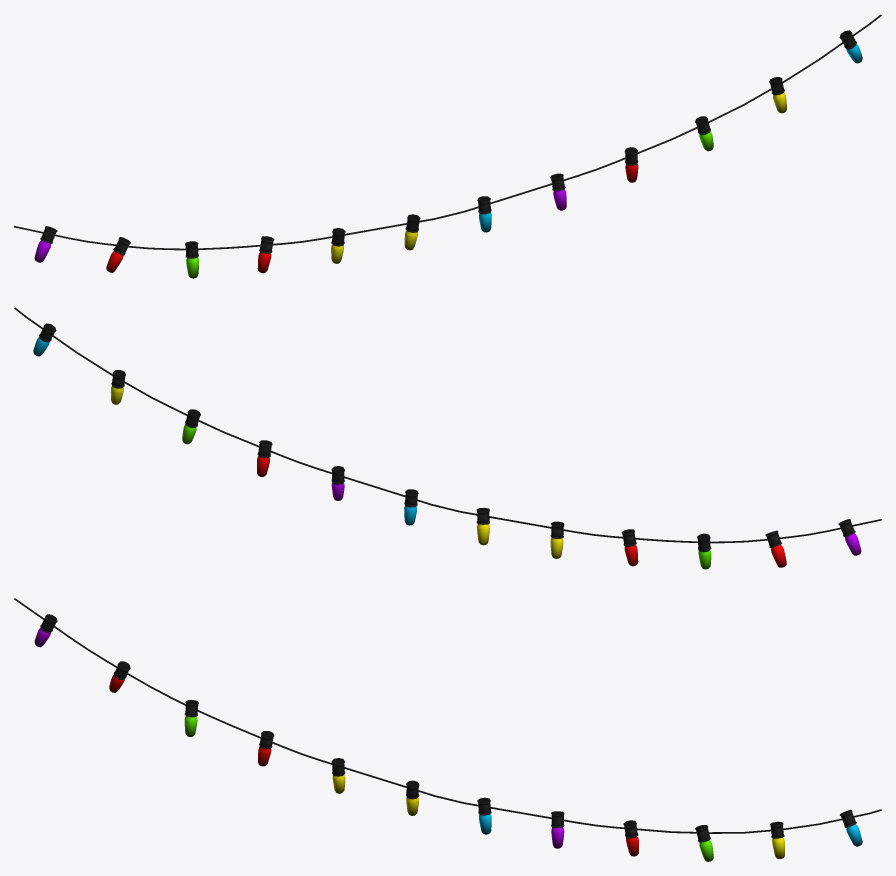
Rendered from Prop_ChristmasLights.fbx.
3 renders of one model, top to bottom at view 1: azimuth 30°, elevation 25°; view 2: azimuth 150°, elevation 25°; view 3: azimuth 330°, elevation 25°, orthographic.
Visible parts, largest first — view 1: Prop_ChristmasLights; view 2: Prop_ChristmasLights; view 3: Prop_ChristmasLights.
Boxes of the visible parts, x1=… form: Prop_ChristmasLights: x1=14, y1=14, x2=881, y2=278; Prop_ChristmasLights: x1=14, y1=307, x2=881, y2=569; Prop_ChristmasLights: x1=14, y1=598, x2=881, y2=861.
Bounding box in the file's own units: 158 × 21.19 × 2.6.
